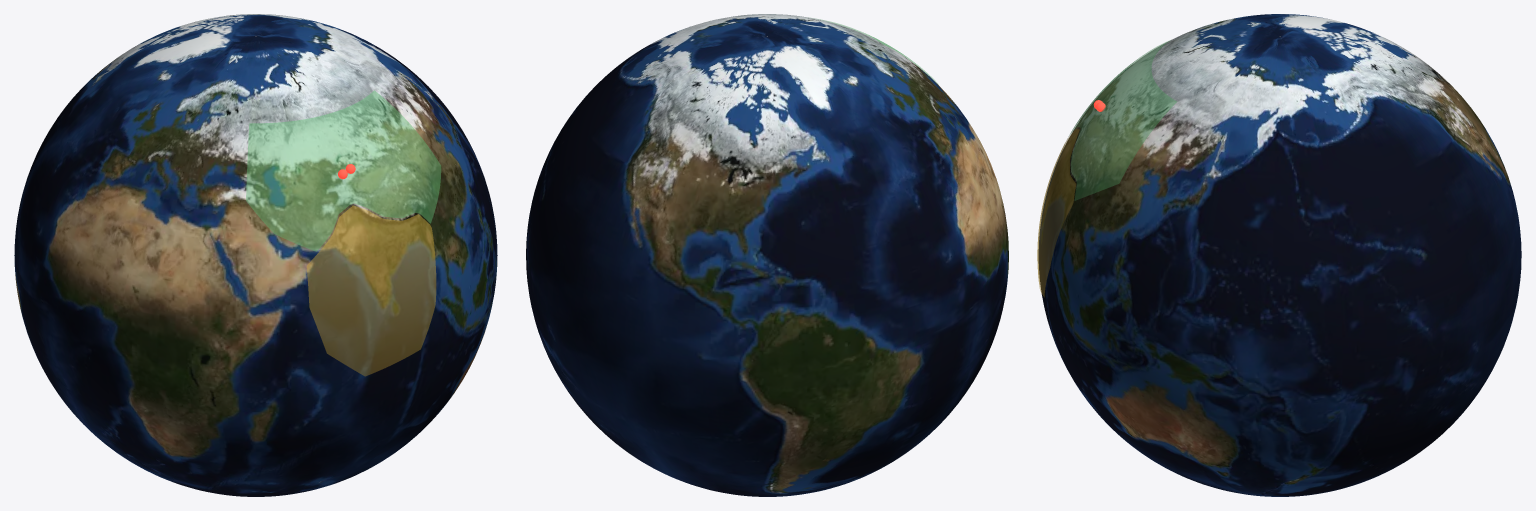
Rendered from earth-layers.glb.
3 views of the same model, side by side, from view 1: azimuth 30°, elevation 25°; view 2: azimuth 150°, elevation 25°; view 3: azimuth 270°, elevation 25° (orthographic).
Visible parts, largest first — view 1: Crust, Plate_Eurasian, Plate_Indian; view 2: Crust; view 3: Crust, Plate_Eurasian, Plate_Indian.
Part boxes in pixels (x1=…): Crust: x1=14, y1=14, x2=497, y2=496; Plate_Eurasian: x1=246, y1=90, x2=441, y2=251; Plate_Indian: x1=306, y1=205, x2=436, y2=376; Crust: x1=526, y1=14, x2=1008, y2=496; Crust: x1=1038, y1=14, x2=1521, y2=496; Plate_Eurasian: x1=1068, y1=40, x2=1176, y2=200; Plate_Indian: x1=1037, y1=128, x2=1079, y2=297.
Size of the model in its own units: 4.8 by 4.8 by 4.81.
Materials: 7 (1 with a texture image).
